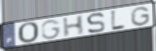G: (41, 19, 62, 41), (130, 6, 151, 27)
H: (62, 14, 85, 39)
L: (110, 9, 127, 32)
O: (16, 22, 40, 45)
S: (85, 12, 106, 35)
